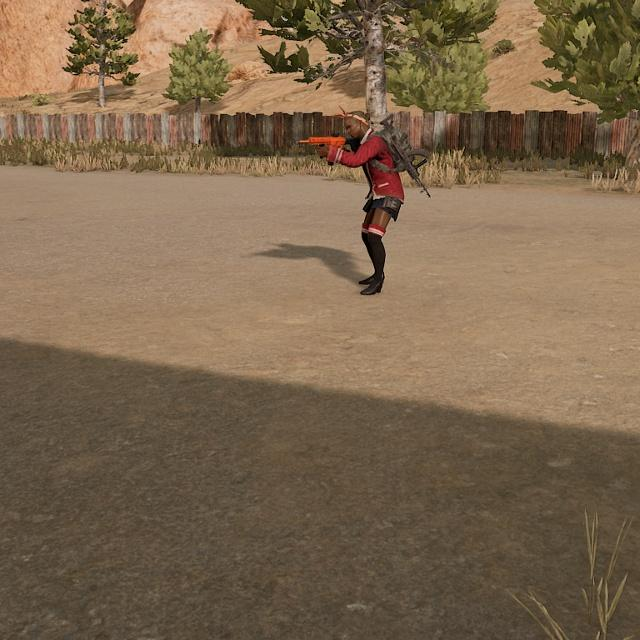head: (341, 110, 376, 141)
people: (329, 109, 405, 298)
